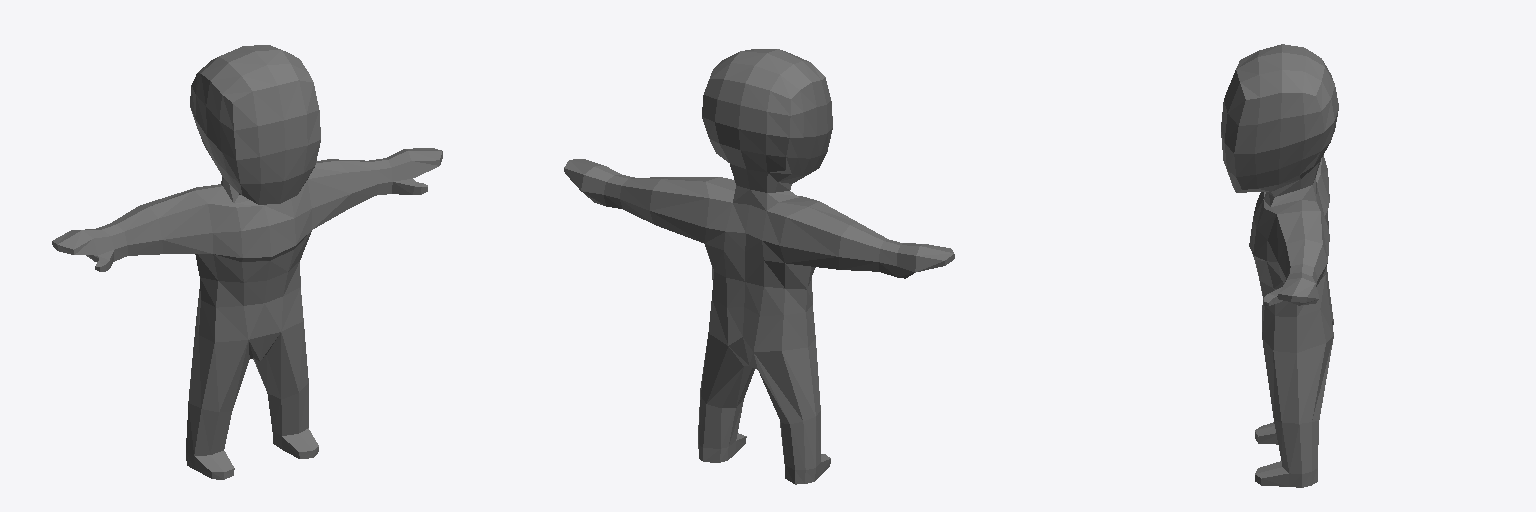
The picture shows the model from 3 angles: view 1: azimuth 30°, elevation 25°; view 2: azimuth 150°, elevation 25°; view 3: azimuth 270°, elevation 25°; orthographic projection.
Visible parts, largest first — view 1: BaseCharMesh; view 2: BaseCharMesh; view 3: BaseCharMesh.
Part boxes in pixels (bbox=[...]): BaseCharMesh: bbox=[52, 45, 442, 479]; BaseCharMesh: bbox=[564, 49, 954, 484]; BaseCharMesh: bbox=[1221, 44, 1338, 487].
Bounding box in the file's own units: 194 × 197 × 51.81.